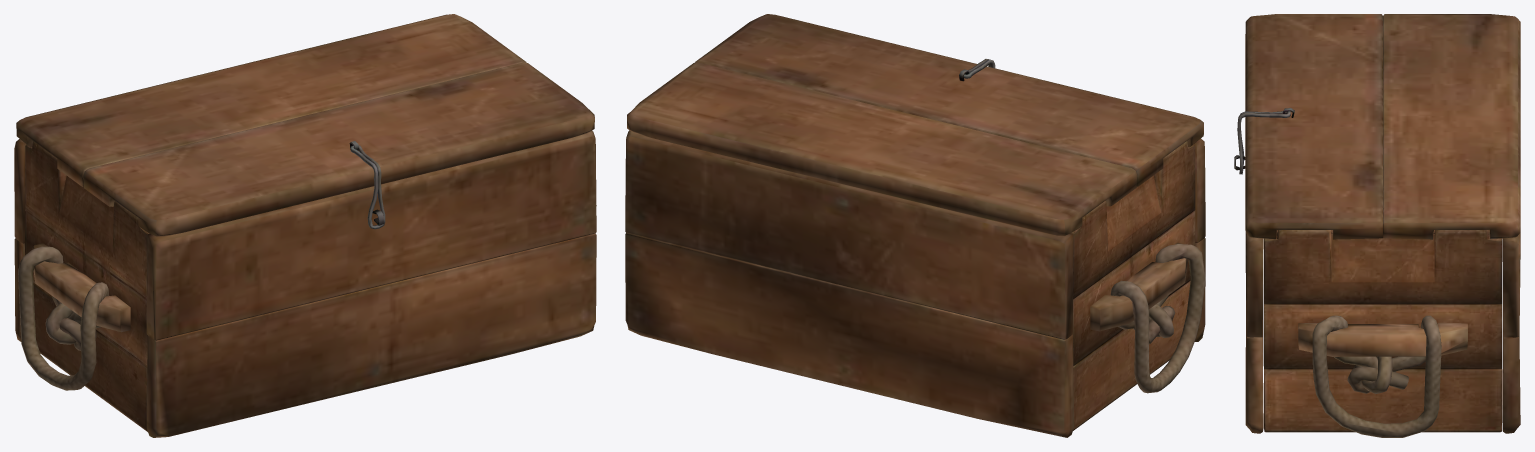
Rendered from wooden_crate_01.glb.
The picture shows the model from 3 angles, left to right: view 1: azimuth 30°, elevation 25°; view 2: azimuth 150°, elevation 25°; view 3: azimuth 270°, elevation 25°; orthographic projection. The views are drawn at different scales.
Visible parts, largest first — view 1: wooden_crate_01, wooden_crate_01_lid, wooden_crate_01_latch; view 2: wooden_crate_01, wooden_crate_01_lid; view 3: wooden_crate_01_lid, wooden_crate_01, wooden_crate_01_latch.
Boxes of the visible parts, bbox=[...] form: wooden_crate_01: bbox=[14, 131, 596, 437]; wooden_crate_01_lid: bbox=[16, 14, 594, 236]; wooden_crate_01_latch: bbox=[350, 145, 385, 229]; wooden_crate_01: bbox=[625, 130, 1205, 437]; wooden_crate_01_lid: bbox=[627, 14, 1203, 236]; wooden_crate_01_lid: bbox=[1245, 14, 1520, 239]; wooden_crate_01: bbox=[1234, 155, 1520, 437]; wooden_crate_01_latch: bbox=[1237, 111, 1290, 174].
Size of the model in its own units: 0.8245 by 0.3495 by 0.4072.
1 material, 1 textured.
